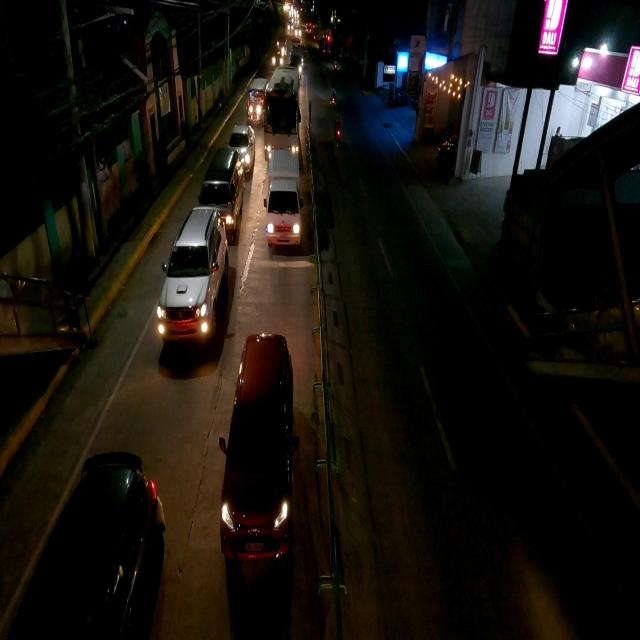Bus: (264, 65, 302, 164)
Van: (198, 146, 244, 242), (264, 149, 304, 246)
